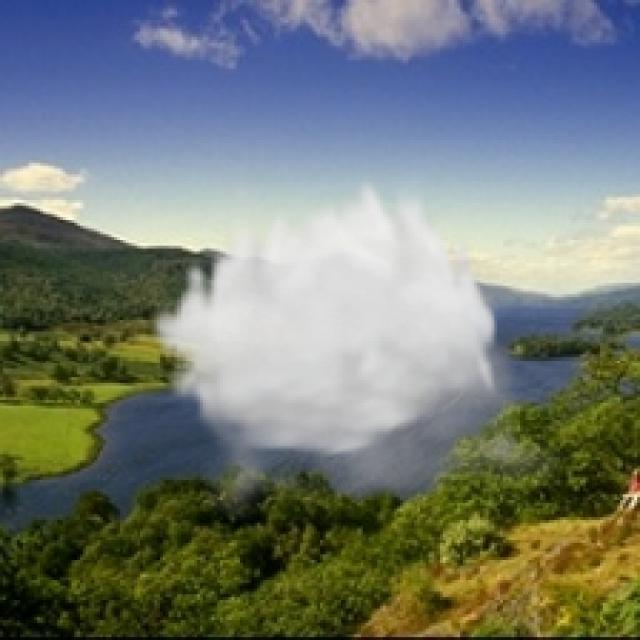smoke: (149, 171, 574, 526)
